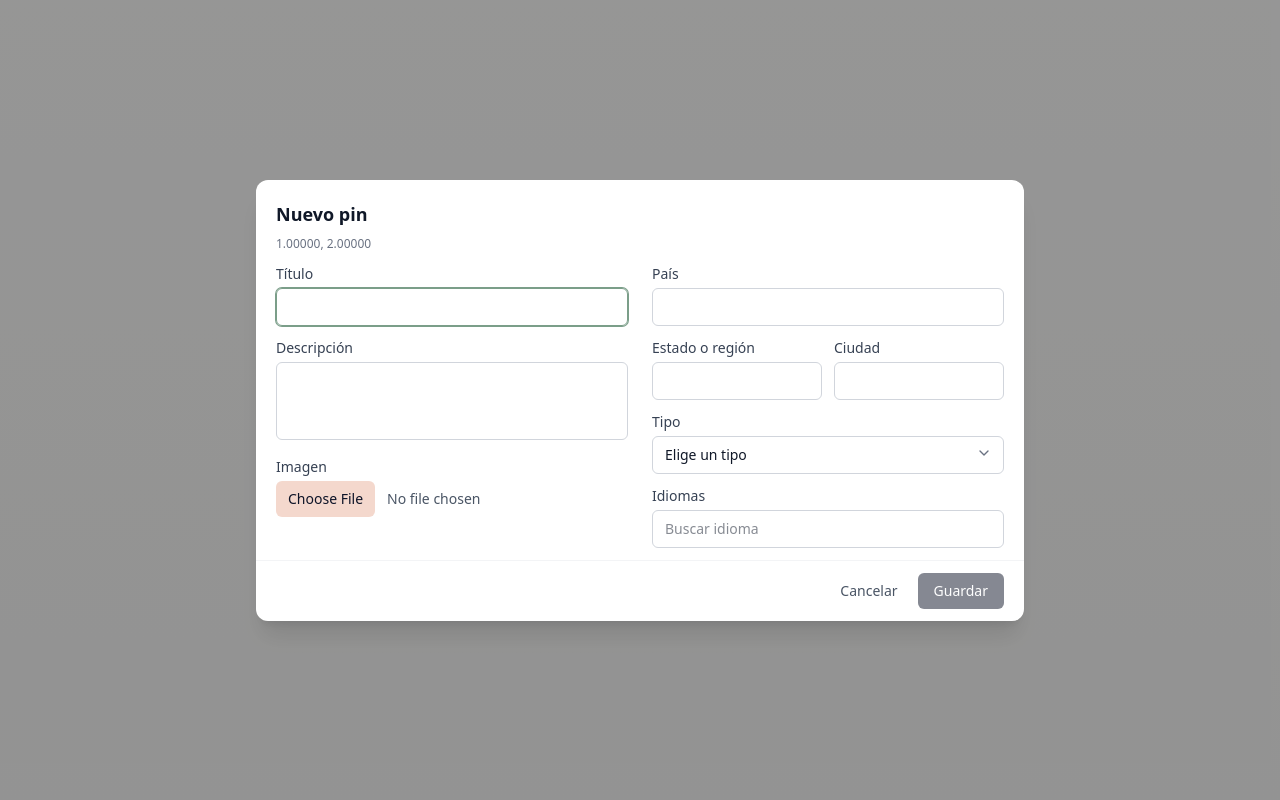
Test: PinFormModal place › searches the country list ignoring accents and picks one by click
The image size is (1280, 800).
Step 1. Type "mexi" into the dropdown labelled "País" → (828, 306), box x1=652 y1=288 x2=1004 y2=326
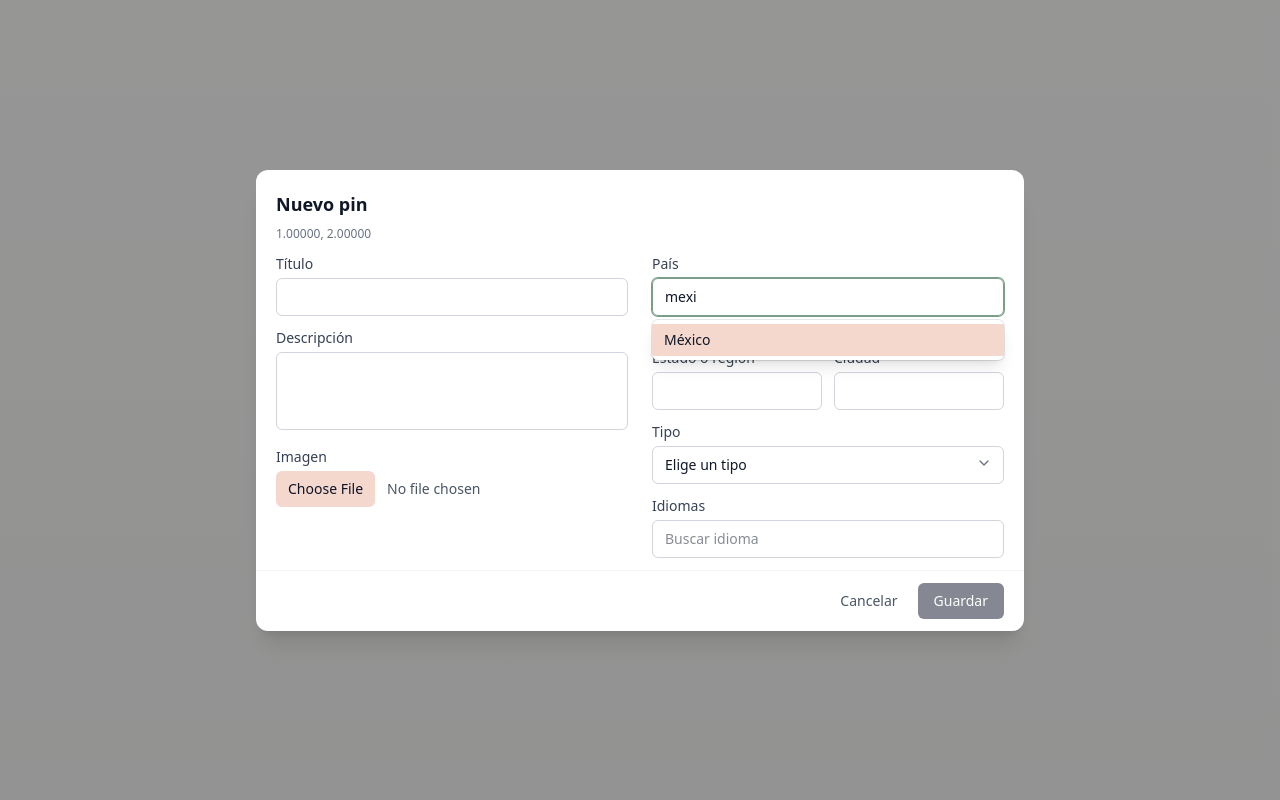
Expected: the options read "México", in this order
Step 2. Click the option "México" → (687, 339), box x1=652 y1=324 x2=1004 y2=356
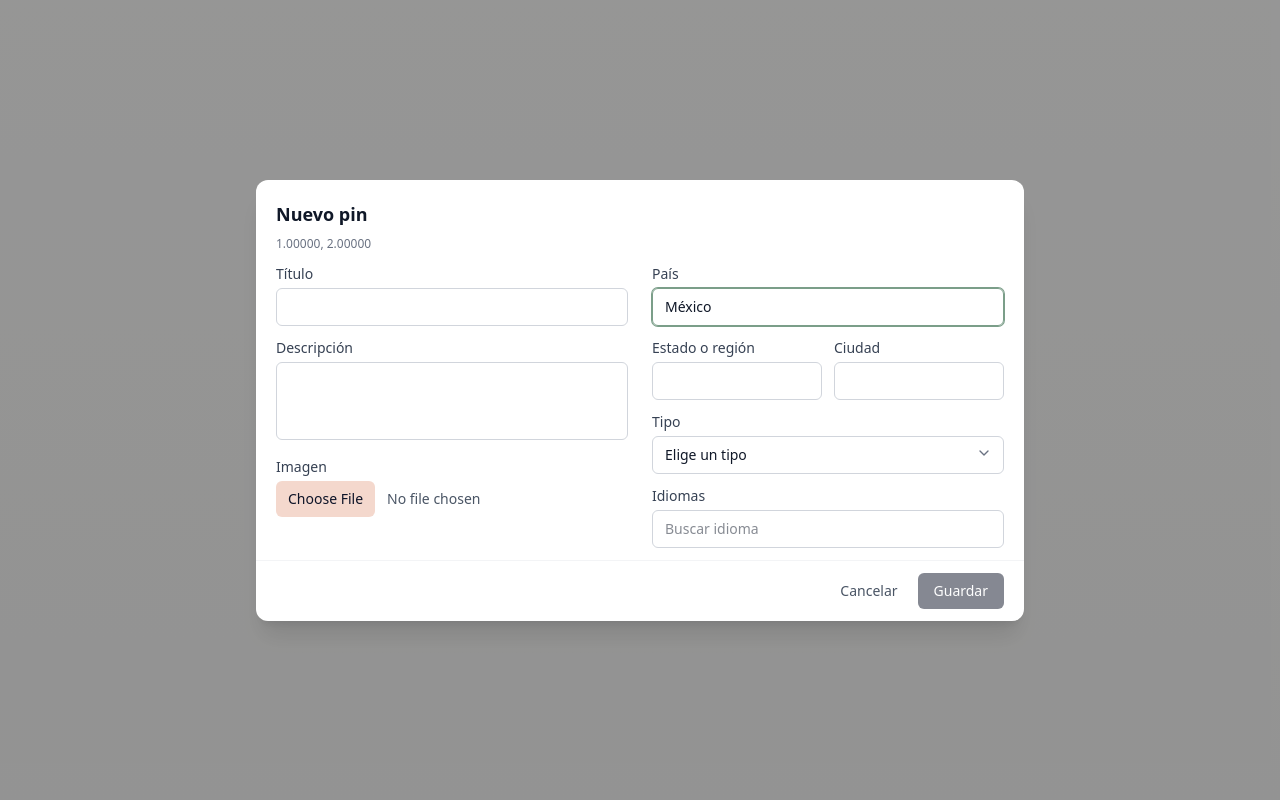
Expected: the dropdown labelled "País" holds "México", x1=652 y1=288 x2=1004 y2=326
Expected: the list is gone
